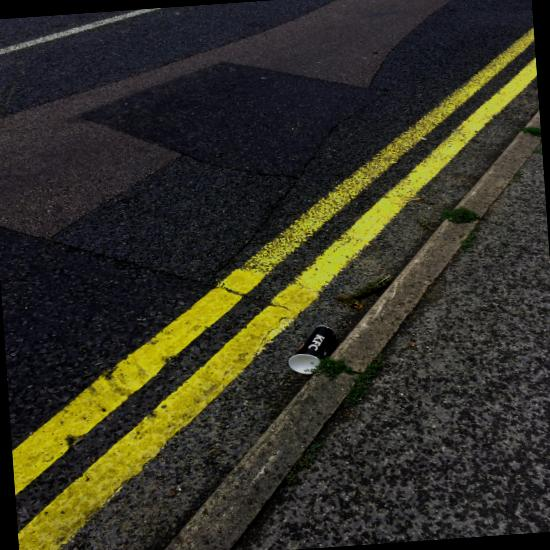Cigarette: (411, 198, 420, 200)
Paper cup: (288, 325, 336, 374)
